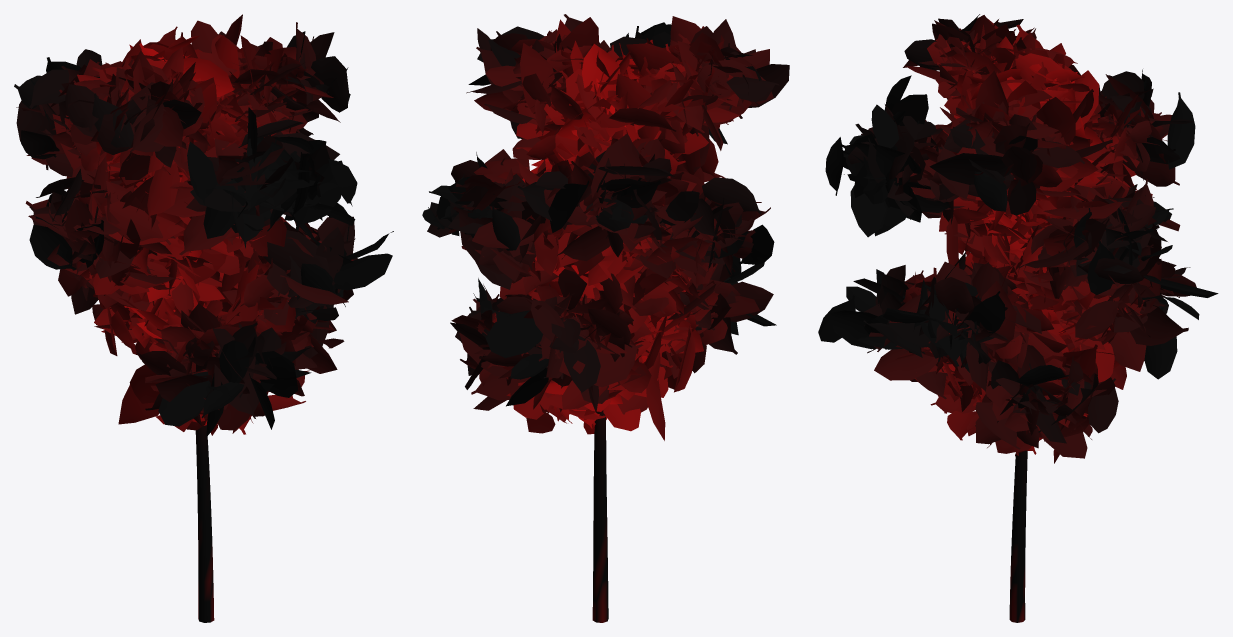
File: SM_SaplingBroadleaf_01.fbx
The picture shows the model from 3 angles, left to right: view 1: azimuth 30°, elevation 25°; view 2: azimuth 150°, elevation 25°; view 3: azimuth 270°, elevation 25°; orthographic projection. The views are drawn at different scales.
Visible parts, largest first — view 1: SM_SaplingBroadleaf_01; view 2: SM_SaplingBroadleaf_01; view 3: SM_SaplingBroadleaf_01.
Part boxes in pixels (<box>): SM_SaplingBroadleaf_01: <box>14,14,393,622</box>; SM_SaplingBroadleaf_01: <box>422,14,789,622</box>; SM_SaplingBroadleaf_01: <box>818,14,1218,622</box>.
Size of what is drawn, in the model's own units: 123 by 140 by 219.
